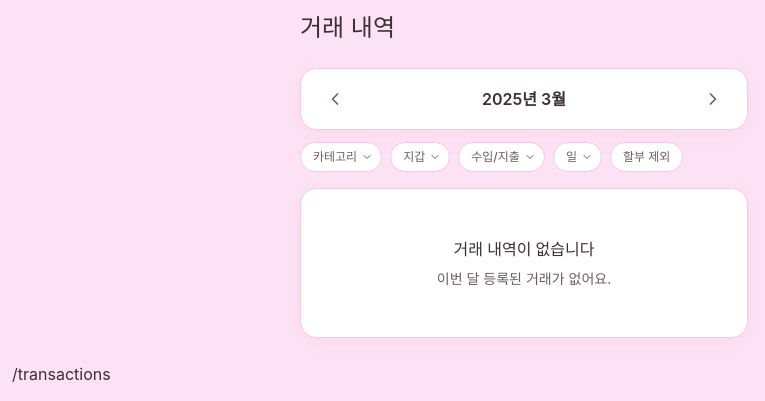
Test case: TransactionsPage — 새로고침(F5) 시 기간 유지 › syncs the URL when moving to a different month, so a later reload keeps the same period
This screenshot has width=765, height=401.
Expected: the text "거래 내역이 없습니다" is shown, x1=454 y1=237 x2=594 y2=261
Expected: the text with test id "loc" reads "/transactions", x1=12 y1=364 x2=111 y2=384
Click the button named "이전 달" at (335, 99), box x1=317 y1=81 x2=353 y2=117
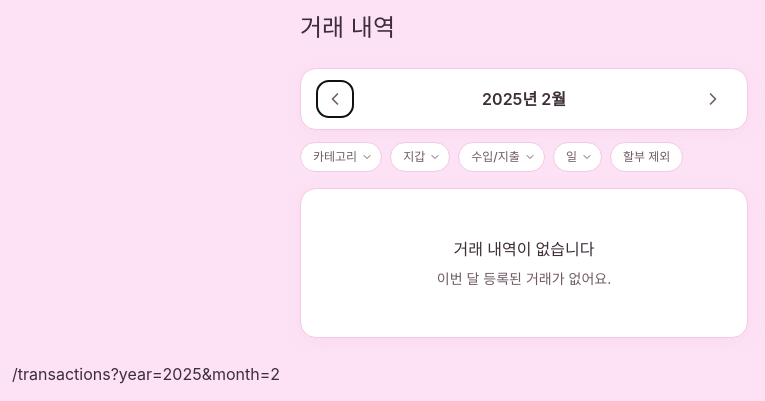
Result: the text with test id "loc" reads "/transactions?year=2025&month=2" at x1=111 y1=364 x2=280 y2=384
